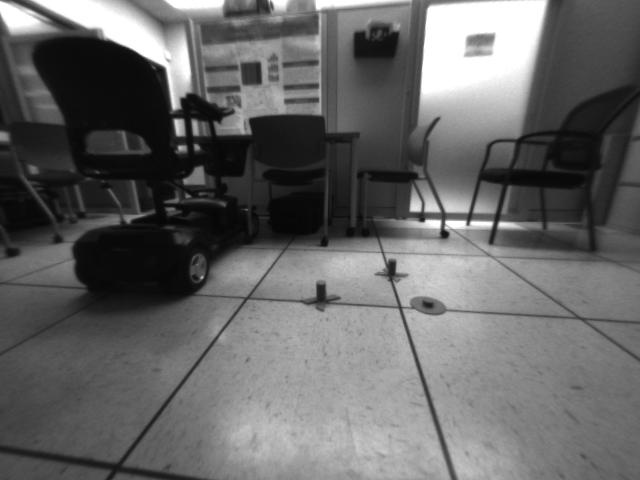X: (301, 278, 340, 314), (372, 257, 409, 285)
